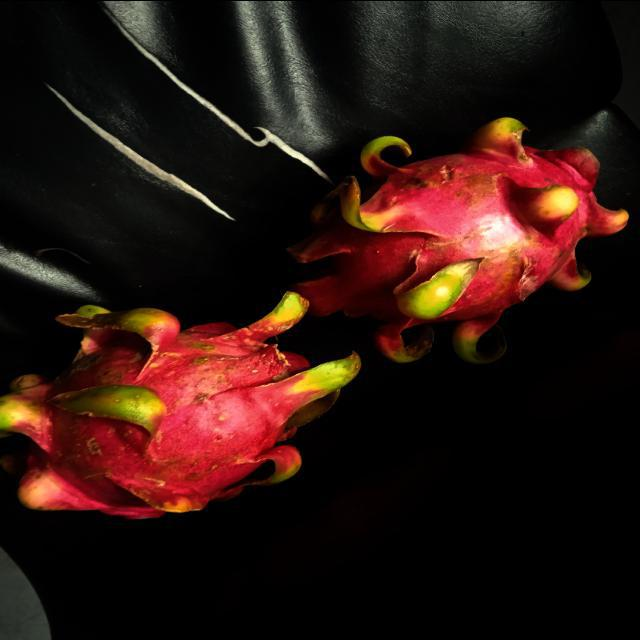do: (0, 292, 363, 528), (288, 117, 632, 366)
